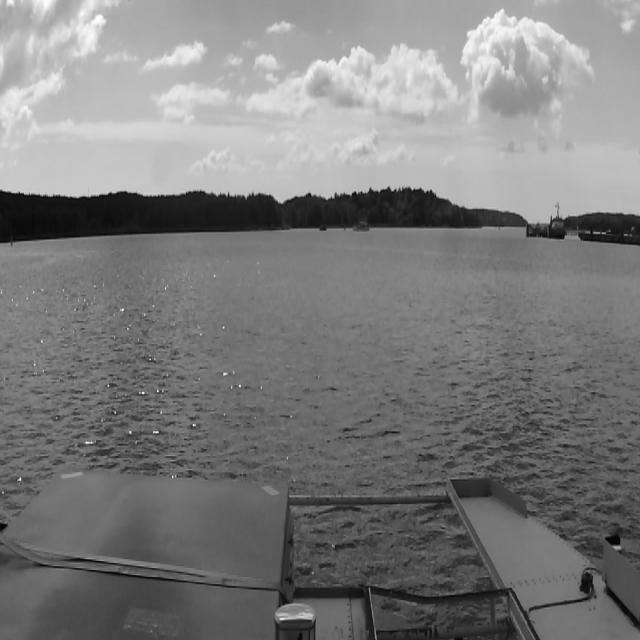ship: (353, 221, 369, 231), (318, 220, 326, 230)
